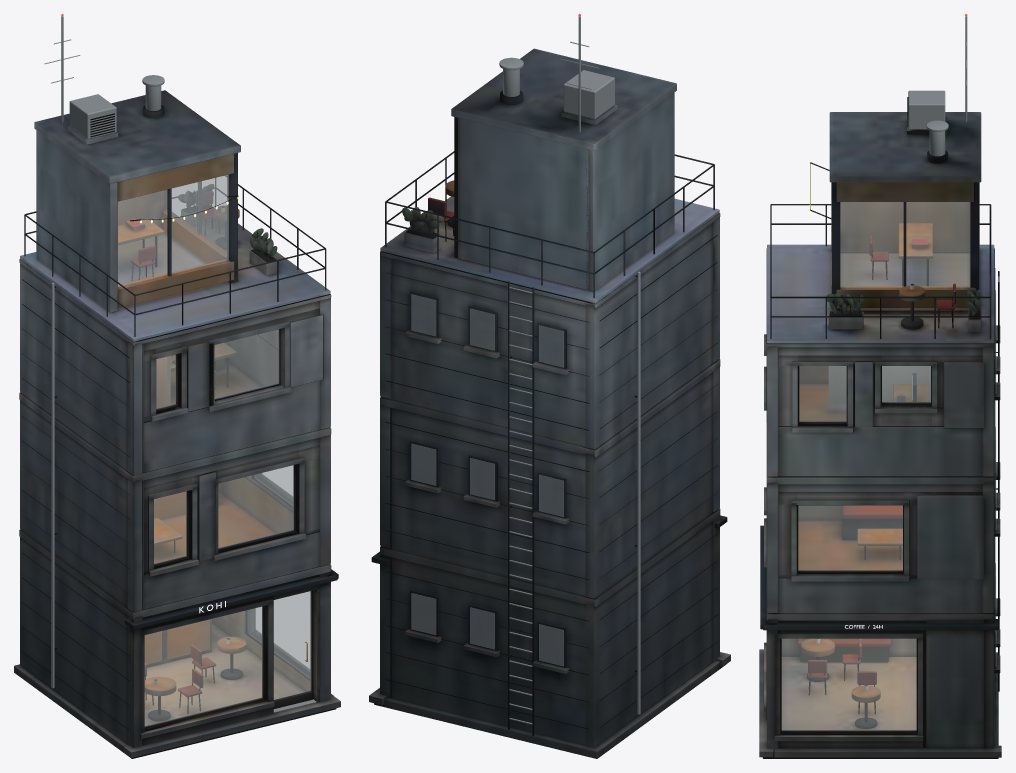
The model's file is corner31.glb.
3 renders of one model, left to right at view 1: azimuth 30°, elevation 25°; view 2: azimuth 150°, elevation 25°; view 3: azimuth 270°, elevation 25°, orthographic. The views are drawn at different scales.
Parts seen in each view (by area): view 1: C31_BakedArchitectureAndFurniture.001, C31_PBR_C31_Glazing.002, C31_PBR_C31_BrushedSteel.002; view 2: C31_BakedArchitectureAndFurniture.001, C31_PBR_C31_Glazing.002, C31_PBR_C31_BrushedSteel.002; view 3: C31_BakedArchitectureAndFurniture.001, C31_PBR_C31_Glazing.002, C31_PBR_C31_BrushedSteel.002.
Boxes of the visible parts, x1,y1,x2,y2 form: C31_BakedArchitectureAndFurniture.001: (14, 90, 340, 758); C31_PBR_C31_Glazing.002: (118, 175, 310, 726); C31_PBR_C31_BrushedSteel.002: (44, 16, 316, 712); C31_BakedArchitectureAndFurniture.001: (369, 48, 730, 758); C31_PBR_C31_Glazing.002: (411, 294, 563, 665); C31_PBR_C31_BrushedSteel.002: (499, 16, 640, 724); C31_BakedArchitectureAndFurniture.001: (759, 97, 1001, 758); C31_PBR_C31_Glazing.002: (782, 202, 996, 730); C31_PBR_C31_BrushedSteel.002: (908, 16, 999, 281).
Size of the model in its own units: 4.99 by 15.02 by 4.99.
Materials: 8 (1 with a texture image).
